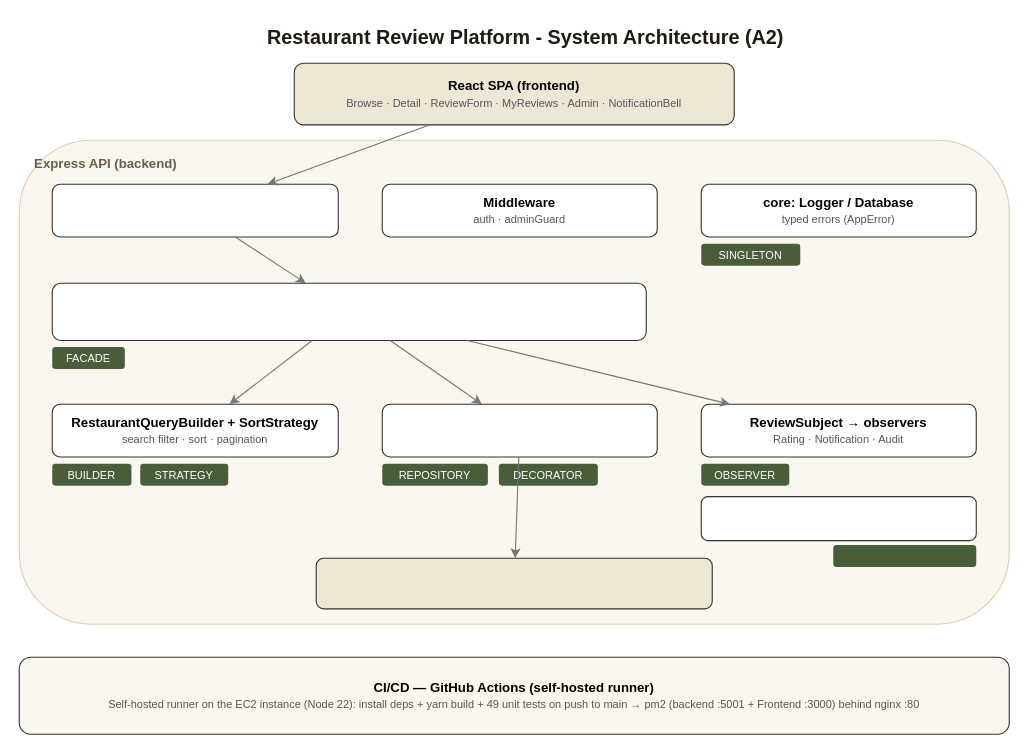
This 1029x754 diagram has some shape labels left out. The shapes that lost their labels are listed below. From the top down, each one's centre as x and y in pixels, then its label:
At (x=194, y=210): "Routes → Controllers (thin)".
At (x=348, y=311): "Services (RestaurantService · ReviewService · AuthService · NotificationService)".
At (x=519, y=430): "Repositories ( + LoggingDecorator ) Restaurant · Review · User · Notification".
At (x=838, y=518): "NotificationFactory".
At (x=904, y=555): "FACTORY METHOD".
At (x=513, y=583): "MongoDB Atlas (Mongoose) users · restaurants · reviews · notifications".
